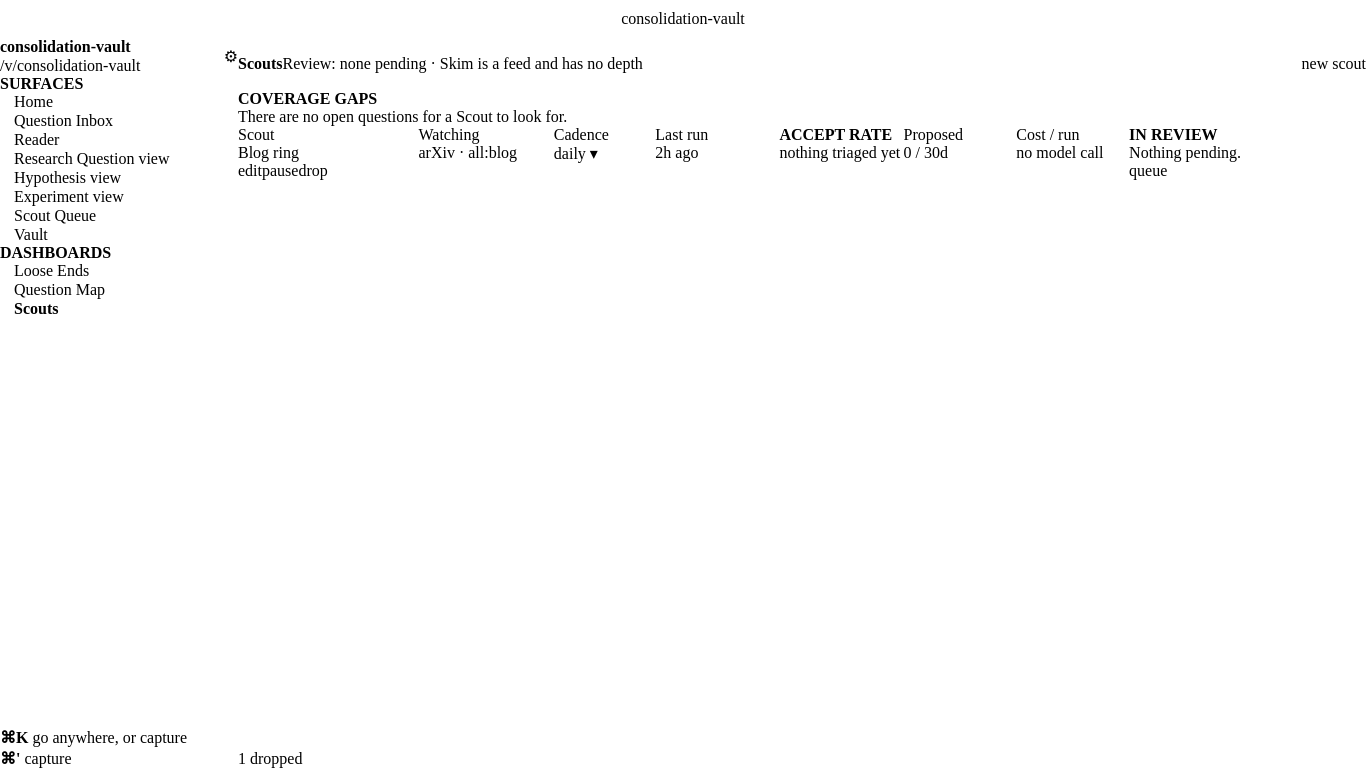
Test: Scouts screen — erase › changes nothing when it is cancelled: the question goes, the Scout stays on the line, the core is never asked
expect the table named "Scouts" is shown: met, box [238,126,1365,180]
What coordinates should you click on to do the following:
click the button "1 dropped"
I would click on:
 (270, 759)
Its box is [238,750,302,767].
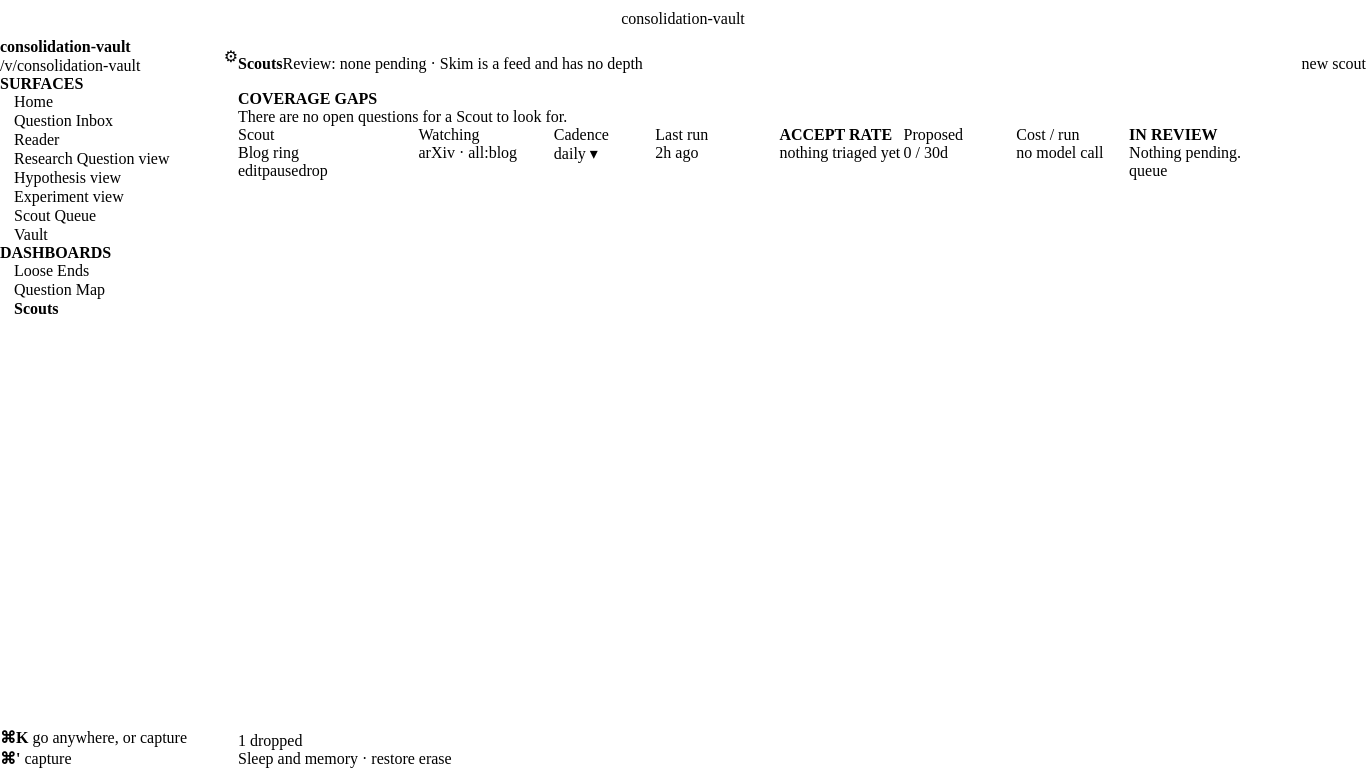
What coordinates should you click on to do the following:
click the button with aria-label "Sleep and memory: erase"
I would click on:
 (435, 759)
Its box is [419,750,452,767].
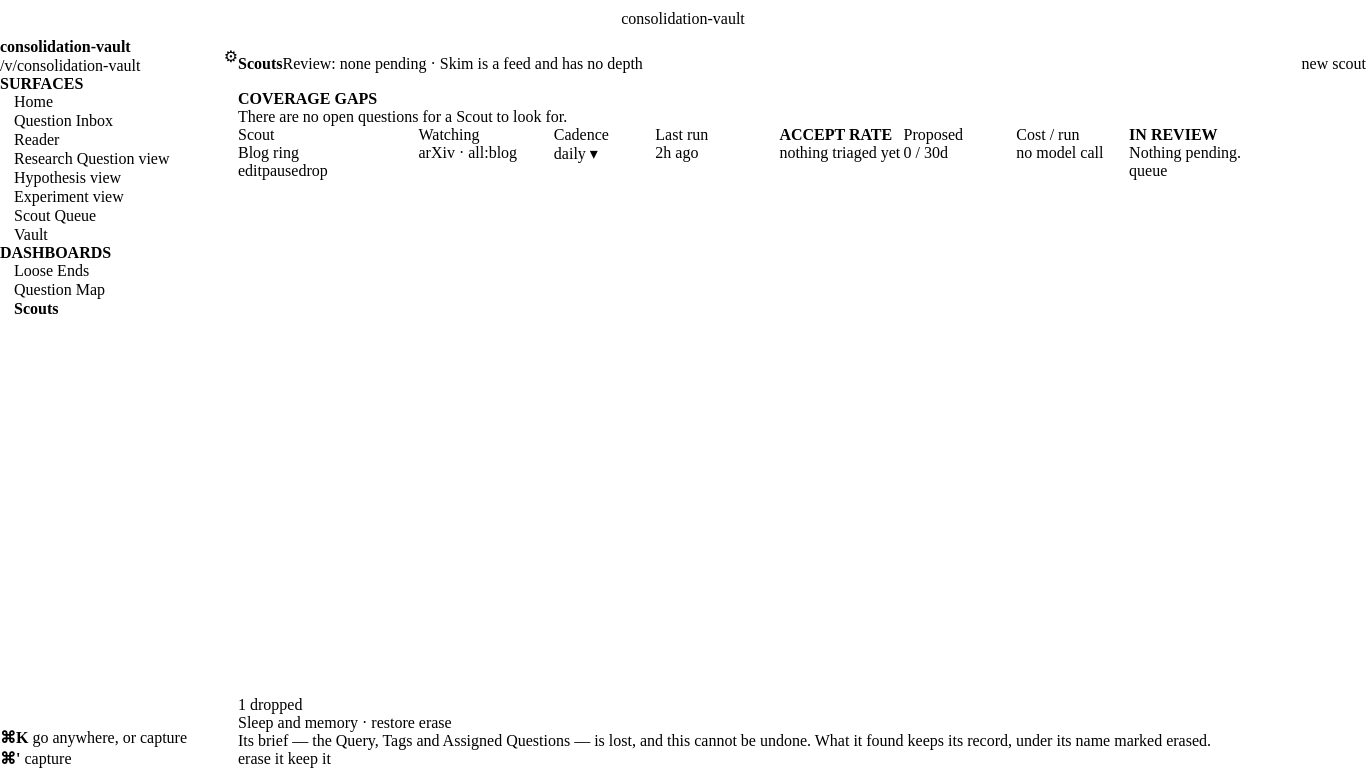
What coordinates should you click on to do the following:
click the button "keep it"
I would click on:
 (309, 759)
Its box is [288,750,331,767].
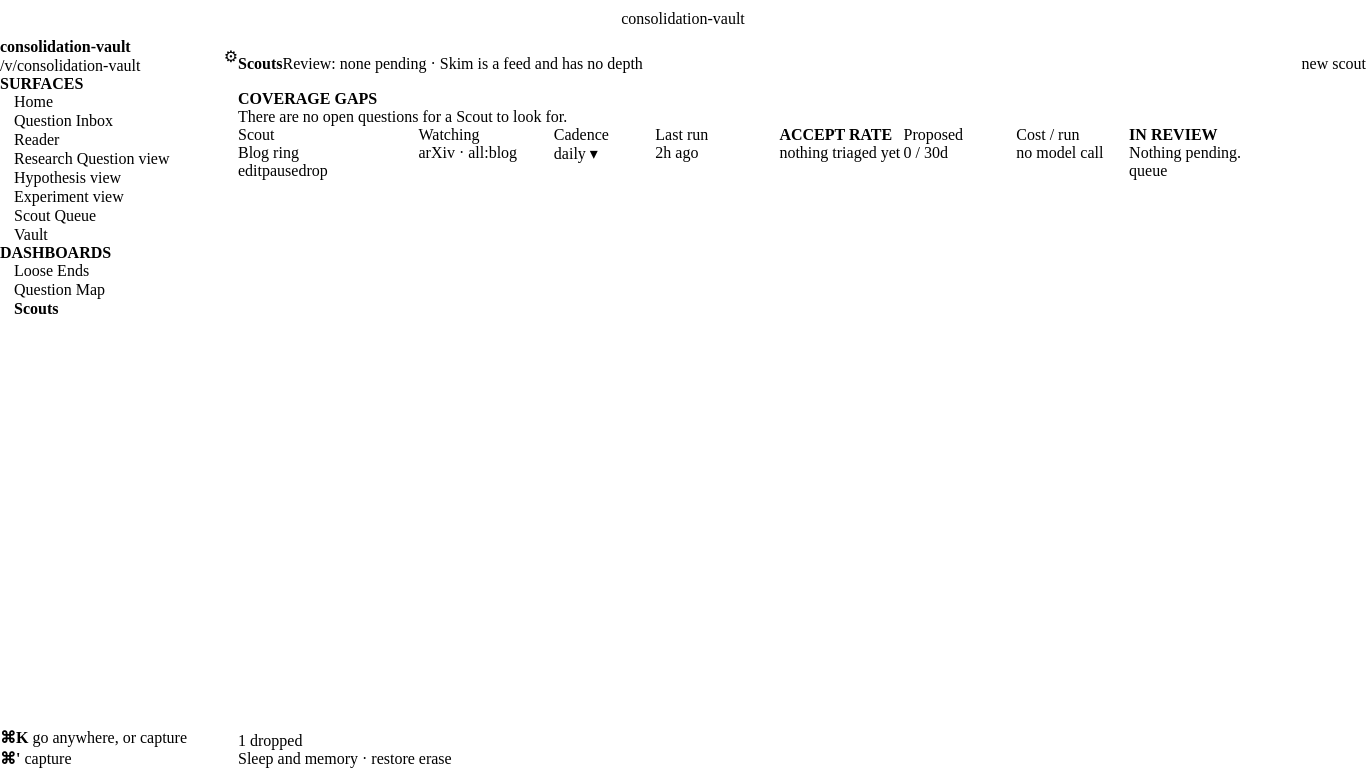
expect the button with aria-label "Sleep and memory: restore" is shown: met, box [371,750,415,767]
expect the dialog is gone: met
